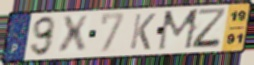7: (98, 11, 127, 56)
9: (27, 15, 58, 58)
K: (128, 12, 158, 51)
M: (155, 8, 202, 53)
X: (57, 13, 91, 56)
Z: (190, 7, 229, 50)
